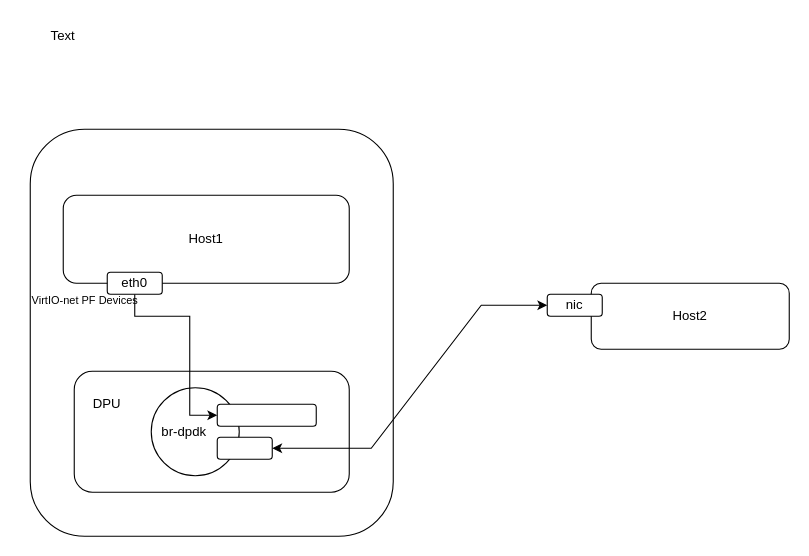
This 809x556 diagram has some shape labels left out. Here are the shapes that lost their labels. From the top down, the centre of each, then its label:
At point 266,414: "en3f0pf0sf2000".
At point 244,447: "p0".
